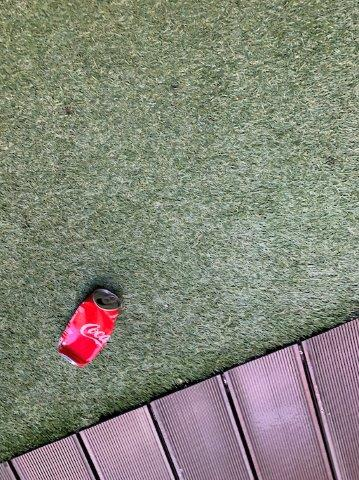kaleng: (60, 290, 119, 365)
